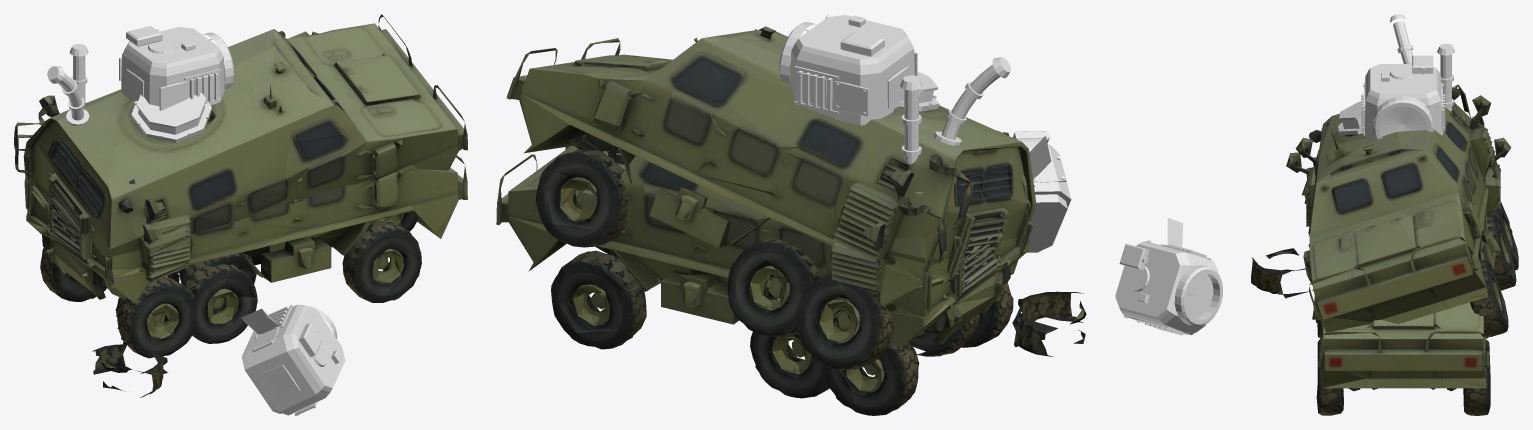
The model's file is aa_remetz.glb.
3 renders of one model, left to right at view 1: azimuth 30°, elevation 25°; view 2: azimuth 150°, elevation 25°; view 3: azimuth 270°, elevation 25°, orthographic. The views are drawn at different scales.
Parts seen in each view (by area): view 1: WRECK_hull_hull, hull_hull, hull_rubber, WRECK_turret_hull, turret_hull, WRECK_hull_metal, WRECK_hull_rubber, turret_metal, WRECK_turret_metal, hull_metal; view 2: WRECK_hull_hull, hull_hull, WRECK_hull_rubber, hull_rubber, turret_hull, WRECK_turret_hull, turret_metal, WRECK_hull_metal, hull_metal; view 3: WRECK_hull_hull, hull_hull, WRECK_turret_hull, turret_hull, WRECK_turret_metal, WRECK_hull_rubber, turret_metal, WRECK_hull_metal, turret_glass, hull_metal.
Boxes of the visible parts, x1=… form: WRECK_hull_hull: x1=14, y1=14, x2=467, y2=318; hull_hull: x1=15, y1=134, x2=467, y2=357; hull_rubber: x1=50, y1=222, x2=420, y2=358; WRECK_turret_hull: x1=241, y1=304, x2=345, y2=415; turret_hull: x1=119, y1=27, x2=224, y2=110; WRECK_hull_metal: x1=47, y1=66, x2=211, y2=142; WRECK_hull_rubber: x1=92, y1=211, x2=417, y2=397; turret_metal: x1=126, y1=26, x2=234, y2=109; WRECK_turret_metal: x1=252, y1=305, x2=341, y2=415; hull_metal: x1=69, y1=43, x2=88, y2=103; WRECK_hull_hull: x1=506, y1=15, x2=1036, y2=369; hull_hull: x1=496, y1=130, x2=1031, y2=414; WRECK_hull_rubber: x1=536, y1=152, x2=1086, y2=369; hull_rubber: x1=551, y1=256, x2=1000, y2=415; turret_hull: x1=790, y1=15, x2=917, y2=125; WRECK_turret_hull: x1=1017, y1=136, x2=1071, y2=252; turret_metal: x1=778, y1=15, x2=884, y2=115; WRECK_hull_metal: x1=900, y1=57, x2=1010, y2=145; hull_metal: x1=900, y1=75, x2=922, y2=164; WRECK_hull_hull: x1=1286, y1=84, x2=1514, y2=336; hull_hull: x1=1295, y1=116, x2=1511, y2=415; WRECK_turret_hull: x1=1115, y1=218, x2=1219, y2=335; turret_hull: x1=1364, y1=64, x2=1442, y2=137; WRECK_turret_metal: x1=1119, y1=240, x2=1222, y2=335; WRECK_hull_rubber: x1=1251, y1=202, x2=1518, y2=336; turret_metal: x1=1361, y1=55, x2=1445, y2=139; WRECK_hull_metal: x1=1337, y1=14, x2=1413, y2=135; turret_glass: x1=1379, y1=106, x2=1426, y2=136; hull_metal: x1=1437, y1=43, x2=1454, y2=111.
Size of the model in its own units: 7.88 by 5.45 by 7.56.
Materials: 1 (1 with a texture image).
